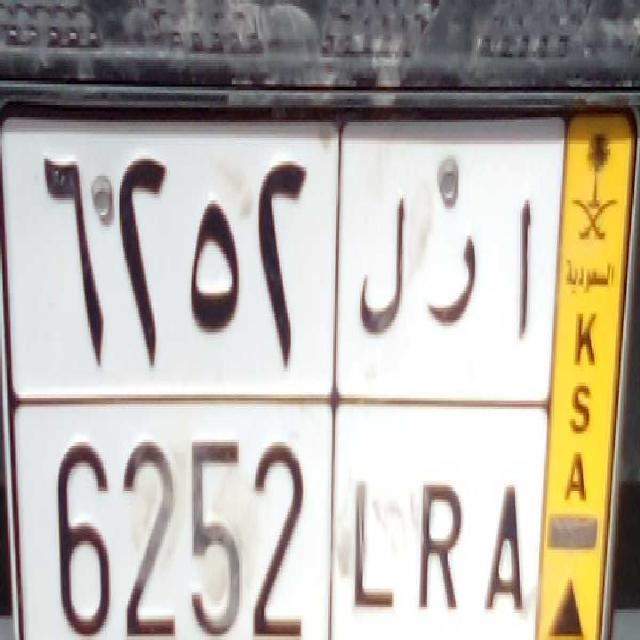license_plate: (22, 389, 535, 640)
